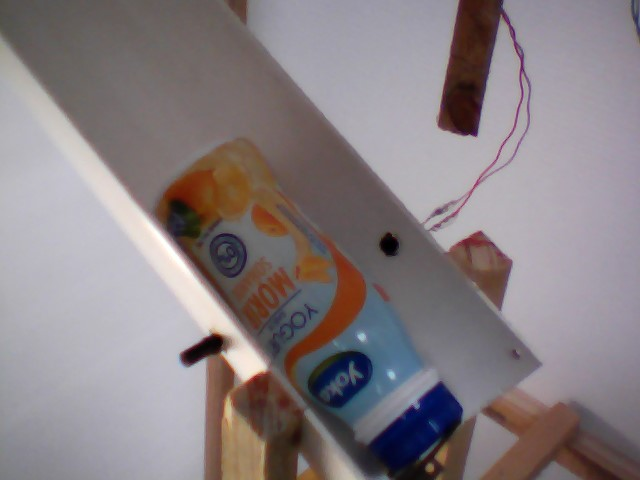plastico: (137, 129, 451, 470)
